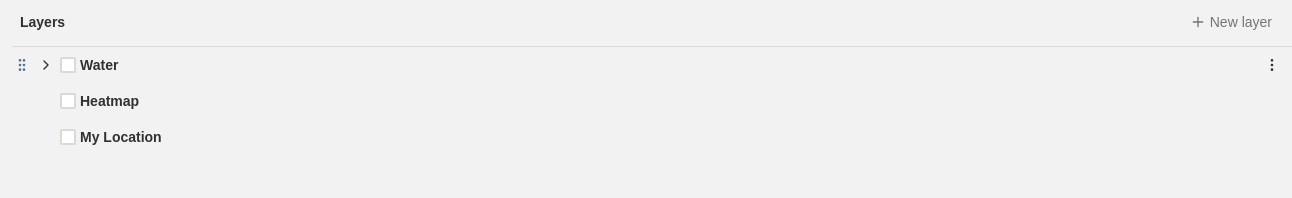
Test: LayerTreePanel › starts root layers collapsed when rootLayersCollapsed is set
expect the button "Water" is shown: met, box [80,55,1256,75]
expect the text "Western water" is not shown: met
Click the button named "Expand layer".
click(46, 65)  # box [36,55,56,75]
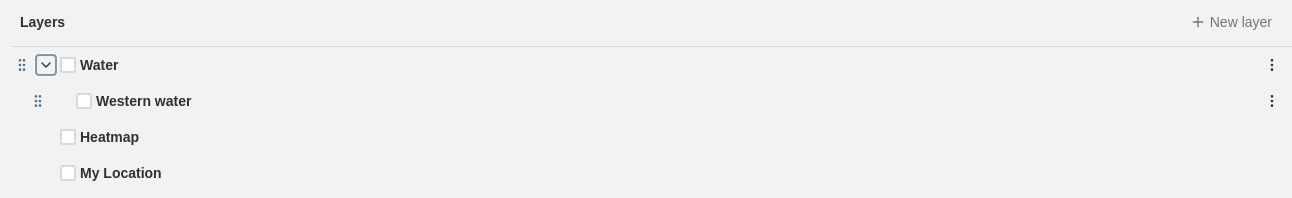
expect the button "Western water" is shown: met, box [96,91,1256,111]
